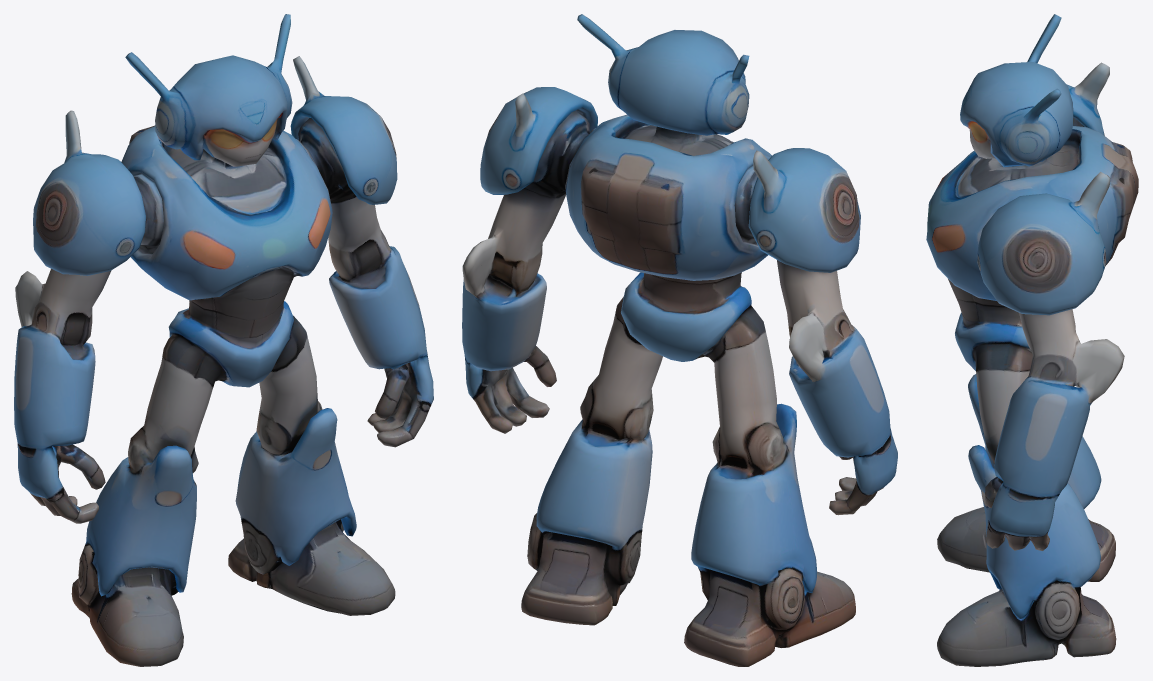
File: blaze_fighter.glb
The picture shows the model from 3 angles, left to right: view 1: azimuth 30°, elevation 25°; view 2: azimuth 150°, elevation 25°; view 3: azimuth 270°, elevation 25°; orthographic projection. The views are drawn at different scales.
Parts seen in each view (by area): view 1: tripo_node_9411b053; view 2: tripo_node_9411b053; view 3: tripo_node_9411b053.
Part boxes in pixels (<box>): tripo_node_9411b053: <box>14,14,433,666</box>; tripo_node_9411b053: <box>462,14,897,666</box>; tripo_node_9411b053: <box>926,14,1138,666</box>.
Size of the model in its own units: 0.739 by 0.9965 by 0.3468.
Materials: 1 (1 with a texture image).
